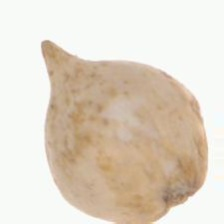L3: (39, 38, 67, 63)
L4: (39, 40, 210, 224)
